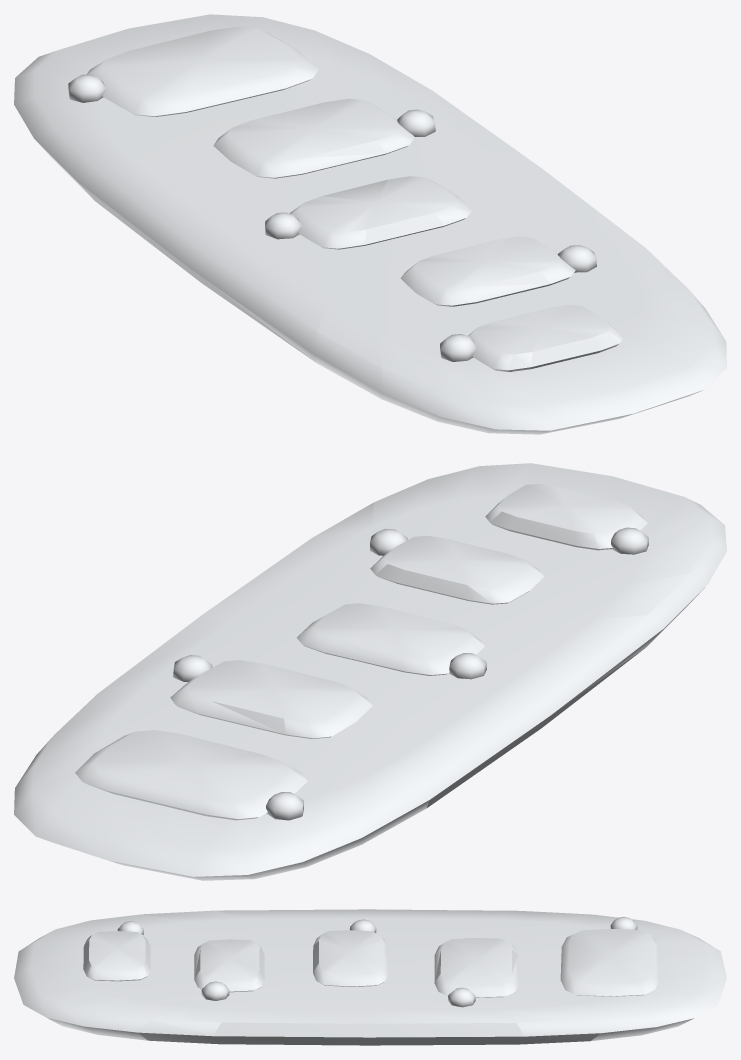
Rendered from SnowSteppingStones.obj.
3 views of the same model, one above another, from view 1: azimuth 30°, elevation 25°; view 2: azimuth 150°, elevation 25°; view 3: azimuth 270°, elevation 25° (orthographic). The views are drawn at different scales.
Parts seen in each view (by area): view 1: SnowSteppingStones; view 2: SnowSteppingStones; view 3: SnowSteppingStones.
Boxes of the visible parts, <box> form: SnowSteppingStones: <box>14,14,726,434</box>; SnowSteppingStones: <box>14,463,726,880</box>; SnowSteppingStones: <box>14,909,726,1045</box>.
Size of the model in its own units: 6.38 by 0.9768 by 15.91.
1 material, 1 textured.
